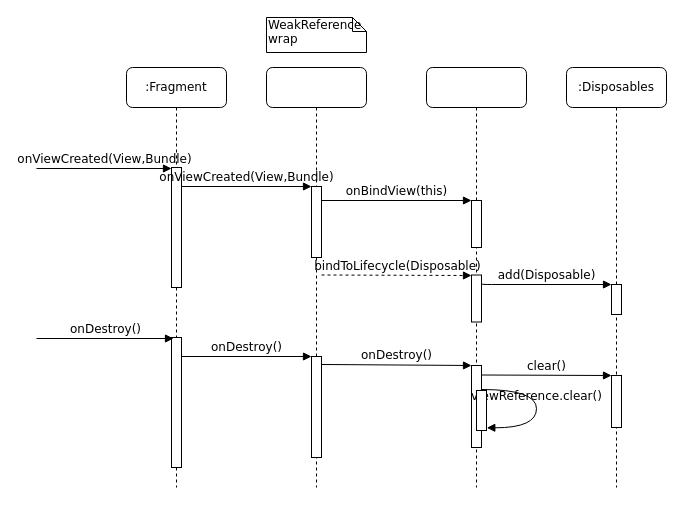
Some shapes in this 684 by 505 pixel diagram are drawn without their labels. The centre of each missing label's shape, as x and y in pixels:
":BaseFragment" belongs at point (316, 277).
":BasePresenter" belongs at point (476, 277).
